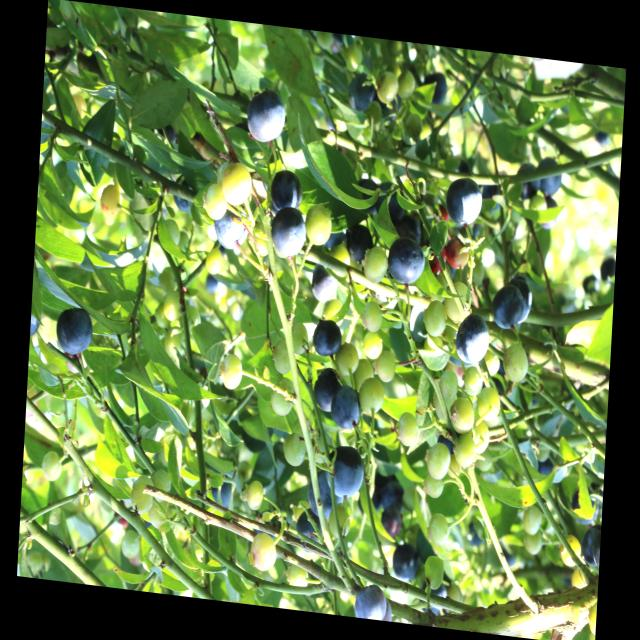blueberry: (246, 86, 286, 144), (328, 446, 367, 502), (306, 468, 344, 520), (56, 304, 94, 356), (445, 176, 483, 227), (270, 208, 308, 258), (455, 312, 490, 365), (388, 236, 426, 284), (212, 204, 248, 250), (491, 282, 525, 330), (330, 384, 361, 430), (353, 582, 389, 621), (270, 172, 302, 215), (312, 318, 343, 358), (390, 542, 419, 584), (313, 367, 339, 413), (347, 73, 375, 114), (295, 509, 324, 548), (346, 226, 374, 265), (536, 157, 563, 197), (311, 263, 338, 303), (376, 184, 404, 222), (372, 82, 398, 121), (420, 580, 447, 617), (394, 213, 420, 247), (380, 481, 406, 515), (516, 164, 539, 202), (422, 72, 448, 105), (580, 525, 601, 563), (172, 178, 195, 212), (355, 179, 378, 211), (536, 194, 557, 227), (382, 507, 402, 540), (536, 446, 555, 477)
blueberry-halfripe: (443, 235, 471, 272), (427, 244, 448, 279)
blueberry-unripe: (220, 160, 253, 208), (304, 201, 334, 249), (248, 528, 278, 573), (421, 438, 452, 481), (443, 280, 474, 323), (217, 349, 245, 394), (200, 183, 228, 226), (502, 342, 530, 384), (268, 374, 296, 416), (448, 396, 477, 436), (358, 376, 385, 416), (422, 297, 448, 338), (288, 320, 312, 364), (130, 473, 155, 515), (420, 552, 446, 592), (281, 429, 307, 468), (395, 410, 421, 448), (426, 510, 450, 549), (270, 338, 294, 377), (476, 386, 501, 423), (452, 432, 476, 469), (335, 344, 359, 381), (362, 299, 385, 335), (375, 347, 397, 384), (461, 366, 483, 400), (361, 330, 384, 362), (41, 448, 62, 483), (438, 368, 459, 402), (244, 479, 265, 512), (422, 470, 445, 500), (522, 504, 543, 536)
